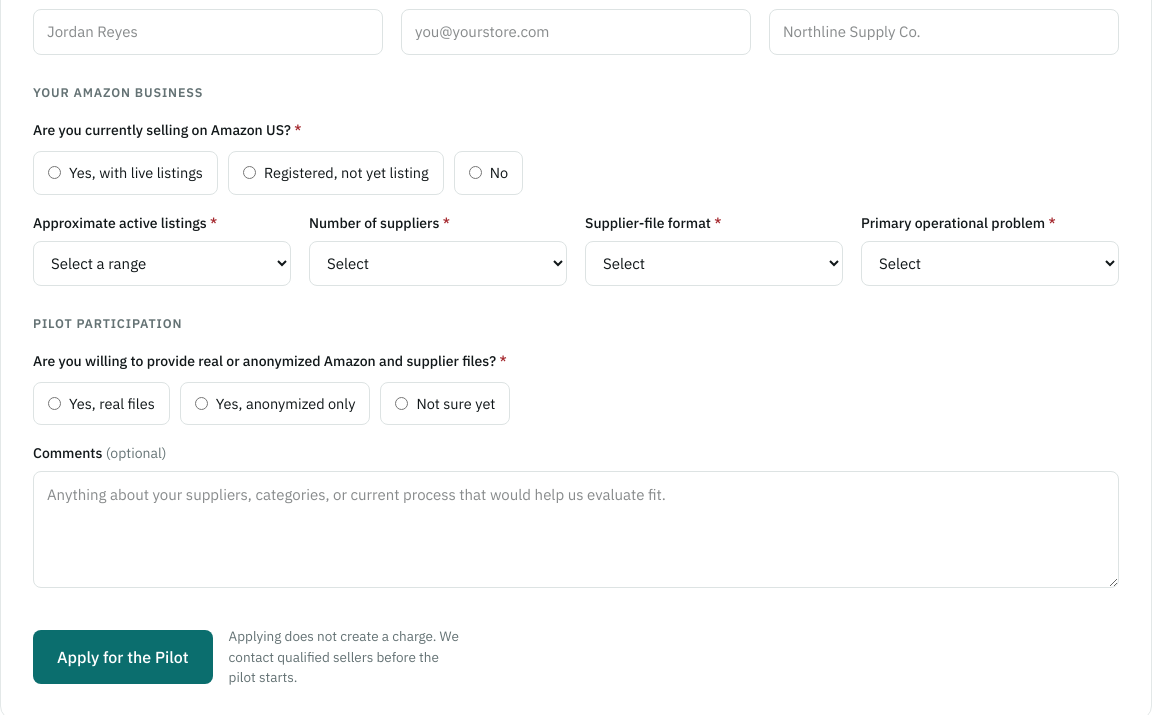
Test: PilotApplicationForm › shows an error summary and field errors on an empty submit
(page scrolled)
Click the button "Apply for the Pilot".
click(123, 657)  # box [33,630,213,684]
(page scrolled)
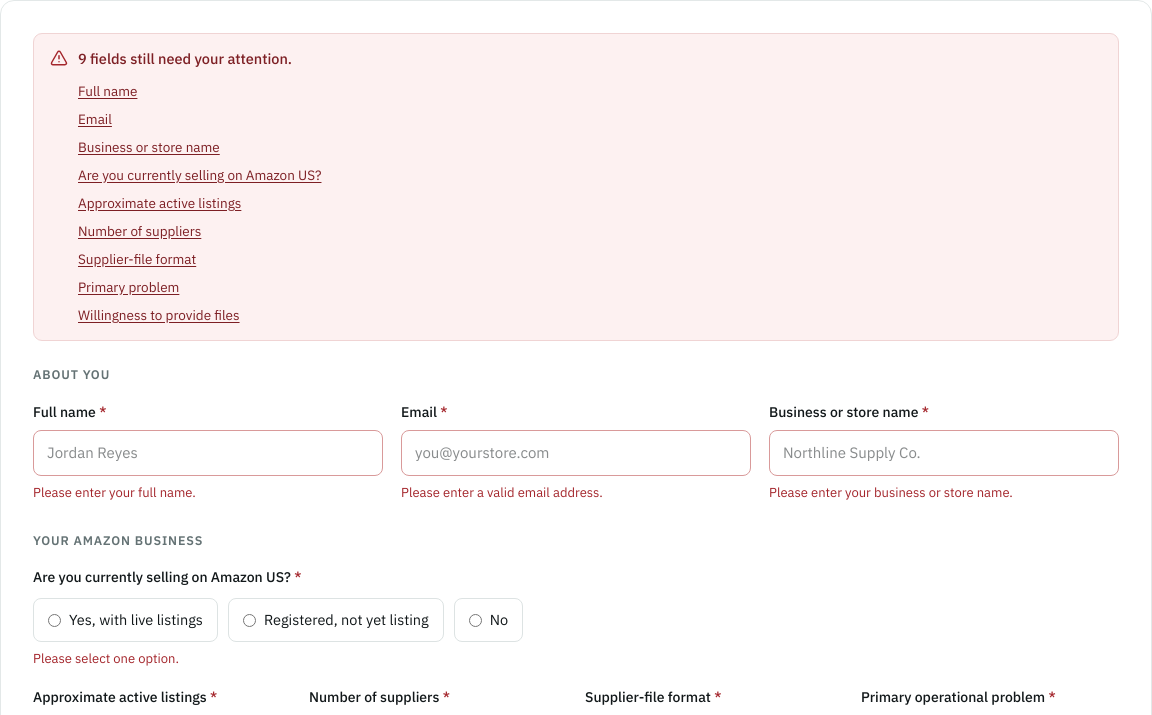
Result: the message shows "fields still need your attention" at [78,49,292,68]
Result: the text "Please enter your full name." is shown at [33,484,196,501]
Result: the text "Please enter a valid email address." is shown at [401,484,603,501]
